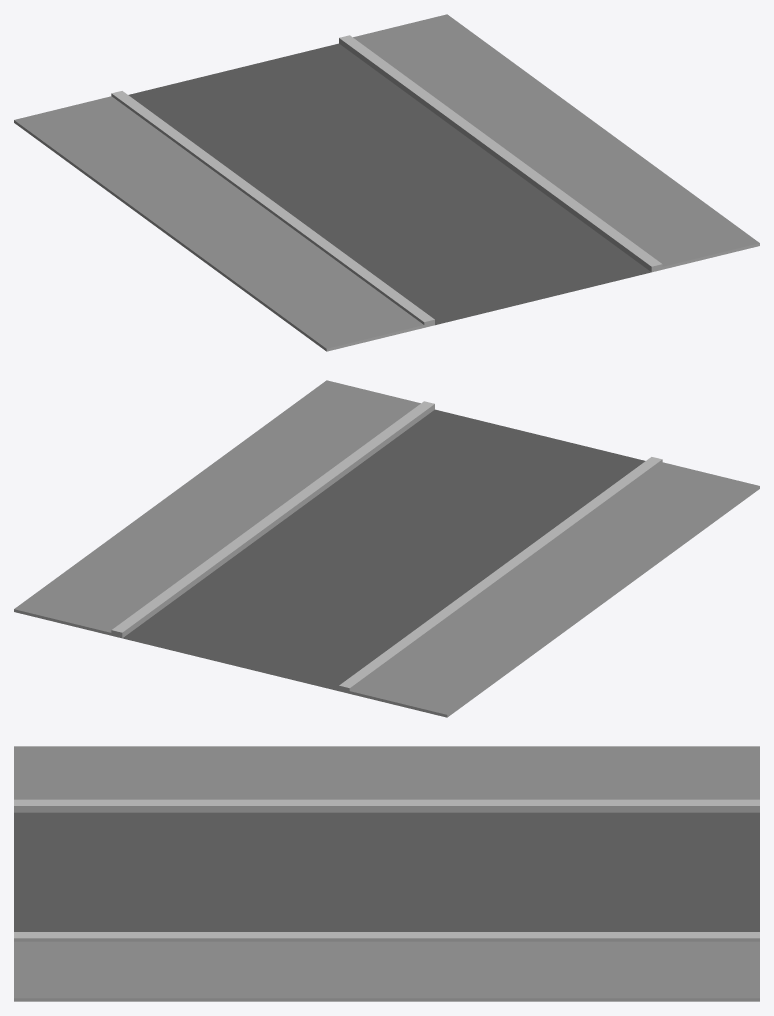
File: street_2x20.fbx
3 views of the same model, one above another, from view 1: azimuth 30°, elevation 25°; view 2: azimuth 150°, elevation 25°; view 3: azimuth 270°, elevation 25° (orthographic). The views are drawn at different scales.
Visible parts, largest first — view 1: street_2x20; view 2: street_2x20; view 3: street_2x20.
Part boxes in pixels (x1,y1,x2,y2): street_2x20: (14, 14, 759, 351); street_2x20: (14, 380, 759, 717); street_2x20: (14, 746, 759, 1001).
Size of the model in its own units: 16 by 0.2 by 20.
